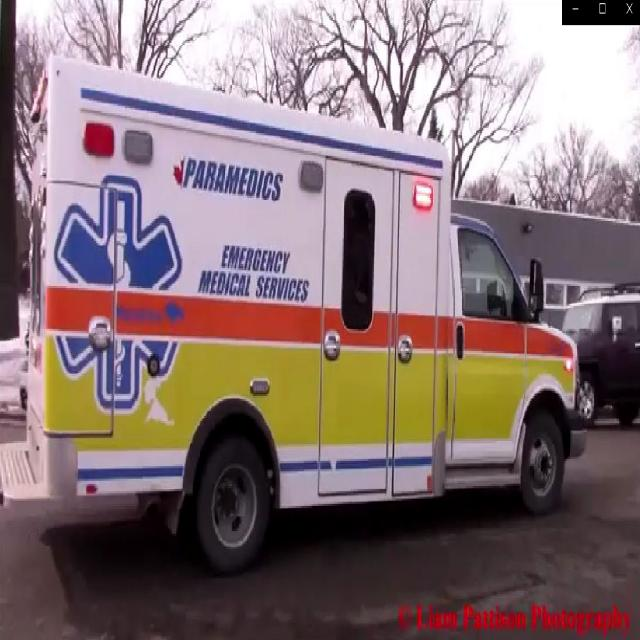emergency: (22, 54, 587, 584)
